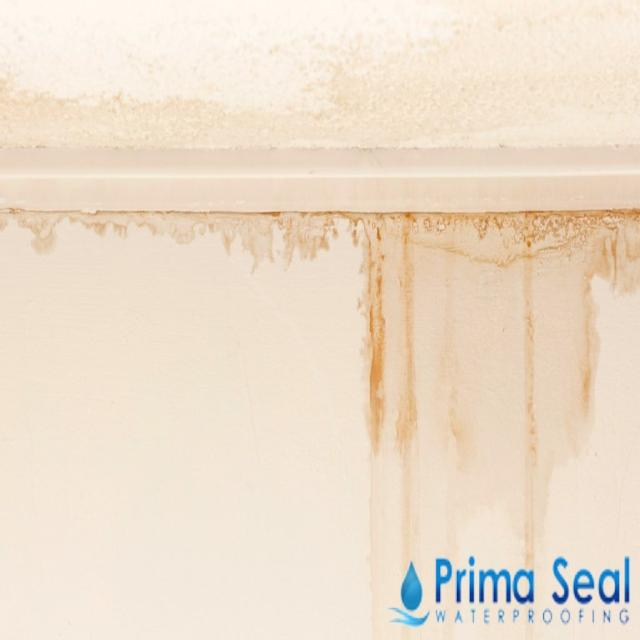Water_Leakage: (1, 7, 640, 441)
